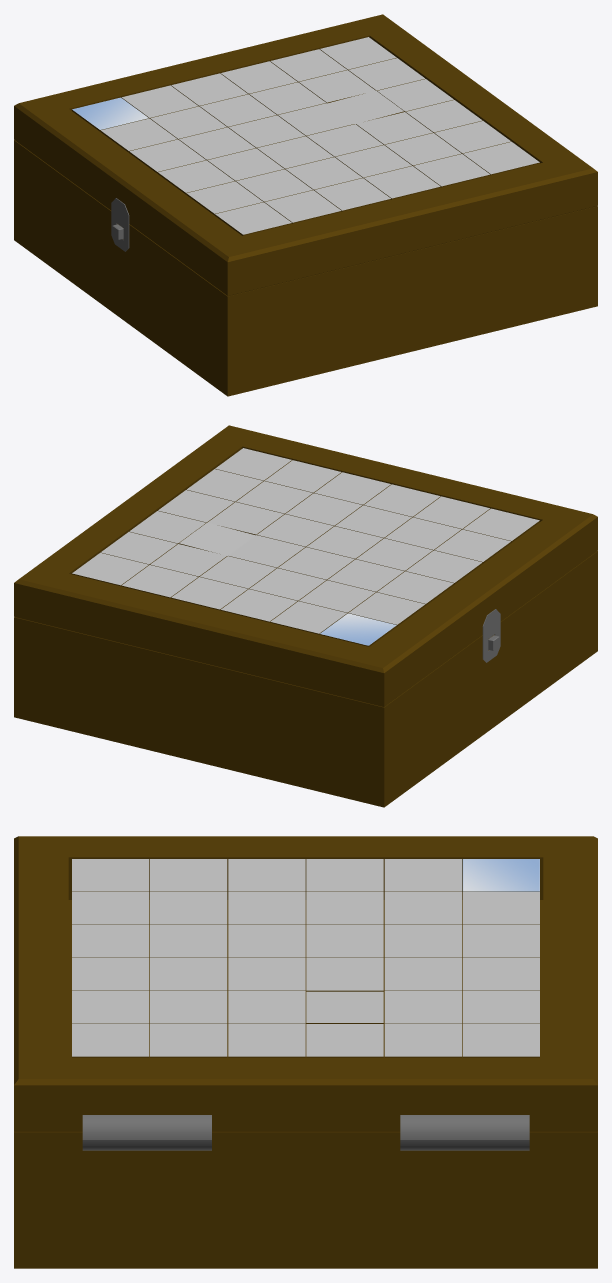
Rendered from puzzleBox.fbx.
3 renders of one model, top to bottom at view 1: azimuth 30°, elevation 25°; view 2: azimuth 150°, elevation 25°; view 3: azimuth 270°, elevation 25°, orthographic. The views are drawn at different scales.
Parts seen in each view (by area): view 1: box, lid, flied_50, flied_30, flied_10, flied_00, flied_20, flied_40, flied_54, flied_51, flied_52, flied_53 (+26 smaller); view 2: box, lid, flied_00, flied_20, flied_40, flied_04, flied_10, flied_30, flied_50, flied_01, flied_02, flied_03 (+26 smaller); view 3: lid, box, flied_05, flied_15, flied_23, flied_25, flied_35, flied_45, flied_55, flied_00, flied_01, flied_02 (+26 smaller).
Boxes of the visible parts, box(x1,y1,x2,y2) form: box: box(14, 140, 597, 396); lid: box(14, 14, 597, 295); flied_50: box(215, 202, 292, 235); flied_30: box(157, 160, 234, 194); flied_10: box(100, 118, 177, 152); flied_00: box(72, 97, 148, 131); flied_20: box(129, 139, 205, 173); flied_40: box(186, 181, 263, 215); flied_54: box(413, 154, 490, 187); flied_51: box(264, 190, 341, 223); flied_52: box(314, 178, 391, 211); flied_53: box(363, 166, 440, 199); box: box(14, 551, 597, 807); lid: box(14, 425, 597, 706); flied_00: box(319, 613, 396, 646); flied_20: box(377, 571, 454, 605); flied_40: box(434, 529, 511, 563); flied_04: box(121, 565, 198, 598); flied_10: box(348, 592, 425, 626); flied_30: box(406, 550, 482, 584); flied_50: box(463, 508, 539, 542); flied_01: box(270, 601, 347, 634); flied_02: box(220, 589, 297, 622); flied_03: box(171, 577, 248, 610); lid: box(14, 836, 597, 1139); box: box(14, 1131, 597, 1268); flied_05: box(462, 1024, 539, 1057); flied_15: box(384, 1024, 461, 1057); flied_23: box(306, 958, 383, 991); flied_25: box(306, 1024, 383, 1057); flied_35: box(228, 1024, 305, 1057); flied_45: box(150, 1024, 227, 1057); flied_55: box(72, 1024, 149, 1057); flied_00: box(462, 859, 539, 891); flied_01: box(462, 892, 539, 924); flied_02: box(462, 925, 539, 957).
Size of the model in its own units: 6.49 by 2.2 by 6.2.
